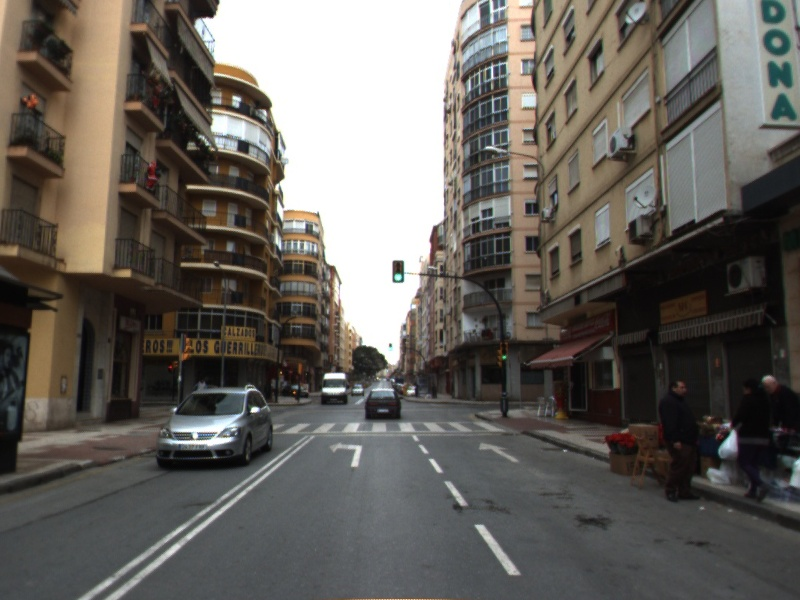LEFT: (328, 440, 364, 468)
STRAIGHT: (477, 441, 521, 464)
